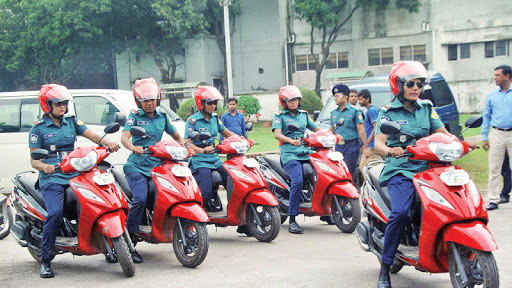scooter: (352, 116, 500, 288), (7, 122, 137, 279), (110, 124, 209, 270), (255, 119, 363, 234), (197, 122, 282, 242)
van: (1, 88, 186, 194), (314, 71, 463, 140)
